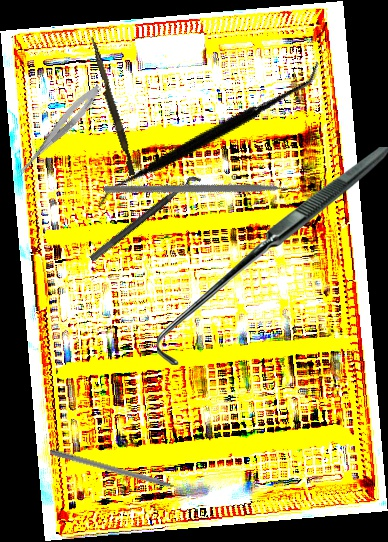Chopper: (102, 98, 312, 292)
Fixation Ring: (88, 172, 208, 271)
Hook Surgical: (157, 147, 388, 365)
Micro Scissor: (13, 80, 105, 183)
Pusher: (84, 35, 140, 177), (48, 448, 198, 498)
Spatula Surgical: (93, 0, 323, 268)
